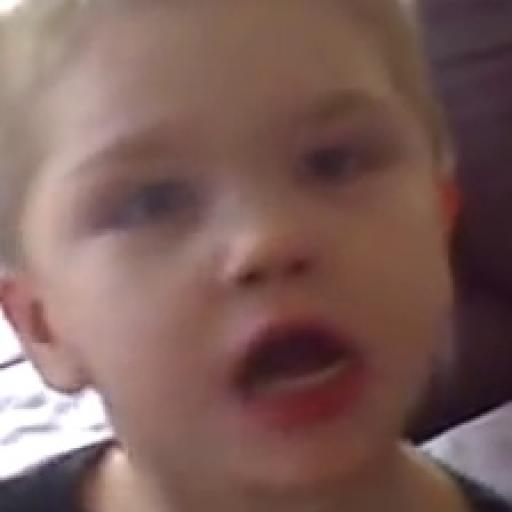Autism: (18, 0, 480, 512)
